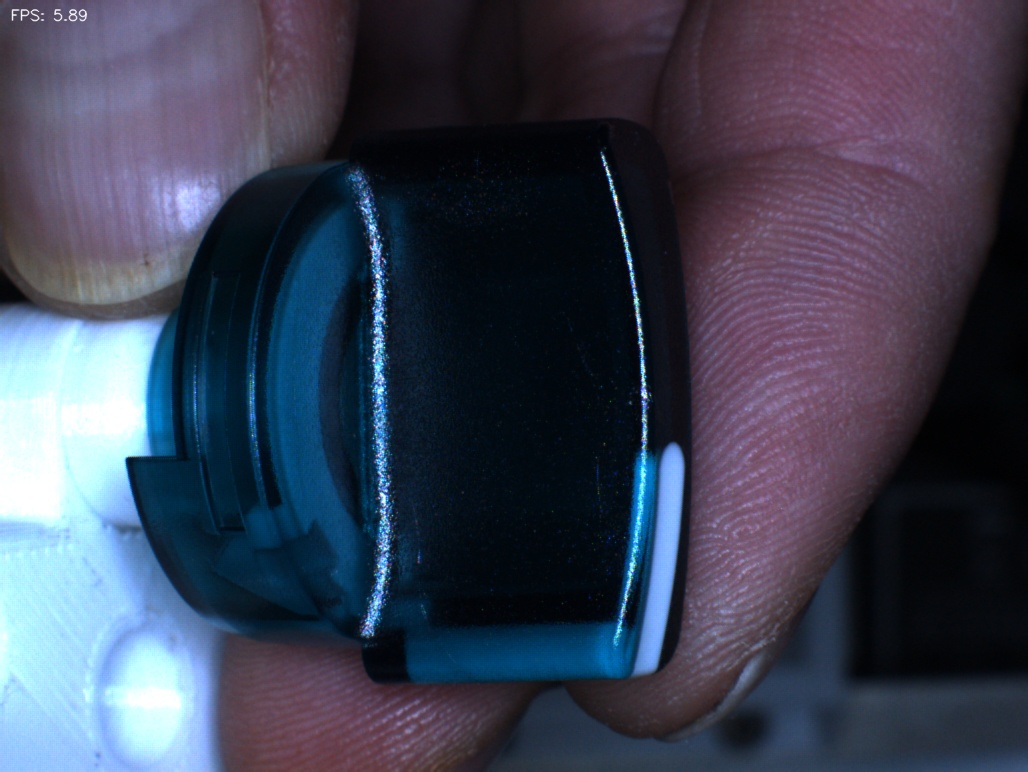Givrage: (393, 489, 462, 651), (560, 421, 621, 555)
